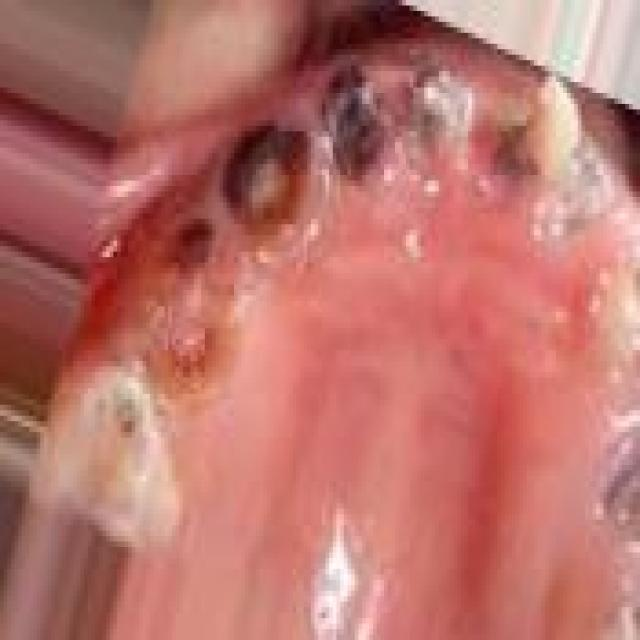caries: (224, 112, 323, 261), (504, 68, 600, 215), (97, 362, 175, 484), (316, 64, 389, 192), (412, 62, 472, 167)
